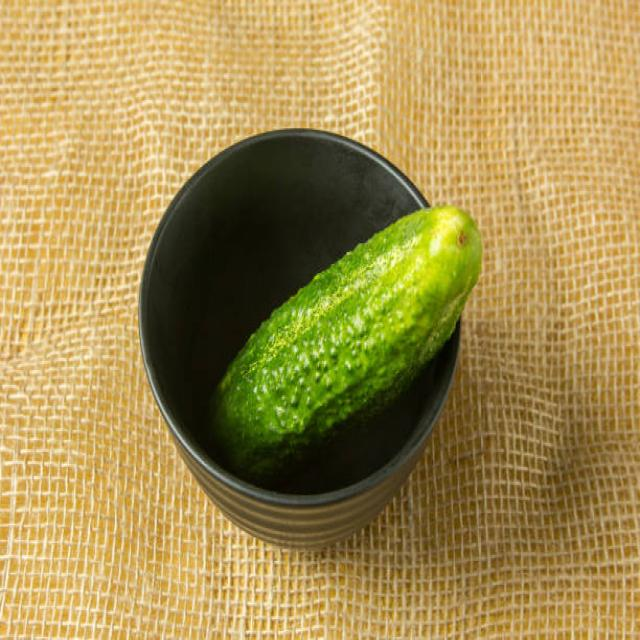cucumber: (206, 207, 484, 466)
